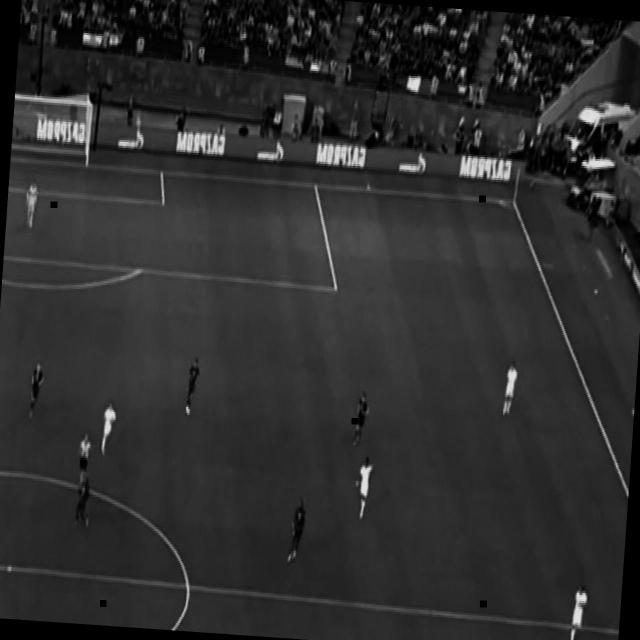player-white: (284, 493, 310, 567), (353, 452, 378, 522), (566, 577, 592, 640), (498, 354, 522, 422), (180, 352, 204, 420), (71, 469, 95, 535), (74, 426, 96, 496), (98, 395, 121, 460), (351, 389, 374, 452), (26, 358, 48, 423), (21, 172, 41, 232)
